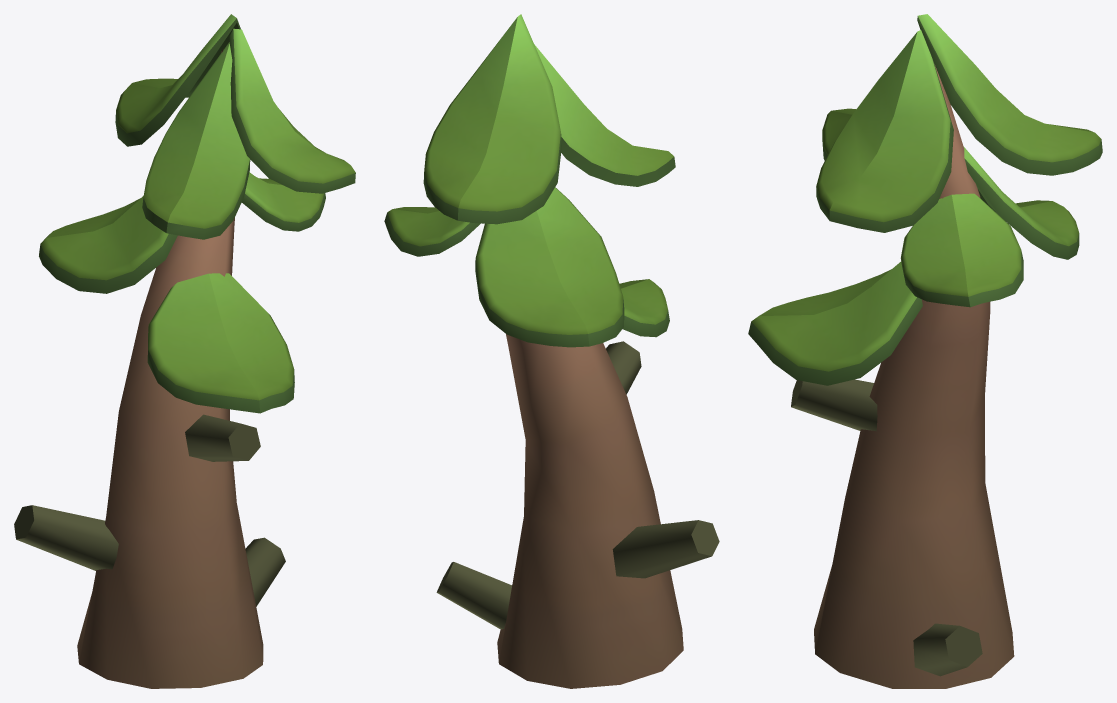
File: tree.fbx
The picture shows the model from 3 angles, left to right: view 1: azimuth 30°, elevation 25°; view 2: azimuth 150°, elevation 25°; view 3: azimuth 270°, elevation 25°; orthographic projection. The views are drawn at different scales.
Visible parts, largest first — view 1: tree; view 2: tree; view 3: tree.
Boxes of the visible parts, x1=… form: tree: x1=14, y1=14, x2=355, y2=688; tree: x1=384, y1=14, x2=719, y2=688; tree: x1=748, y1=14, x2=1102, y2=688.
Bounding box in the file's own units: 51.74 × 98.37 × 46.5.
